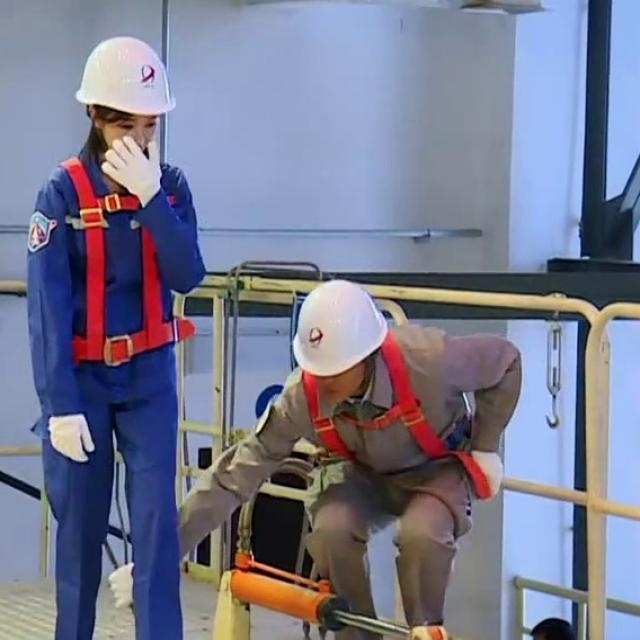Arnes_seguridad: (50, 146, 198, 371), (288, 327, 478, 474)
